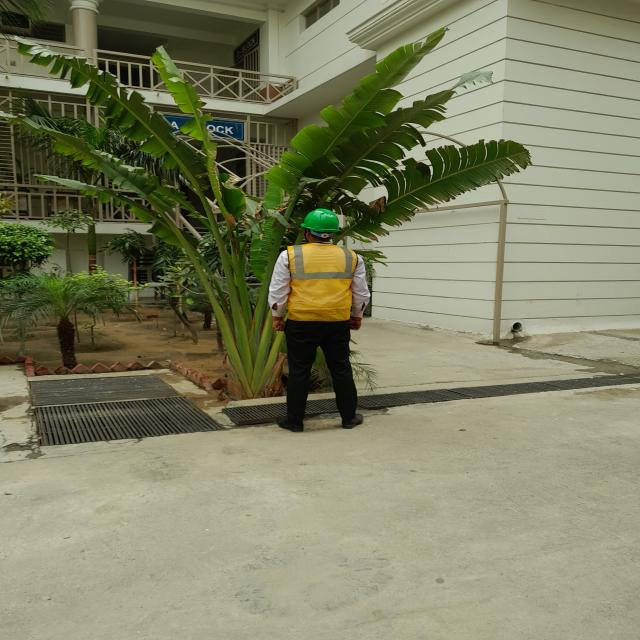safe: (269, 208, 369, 432)
